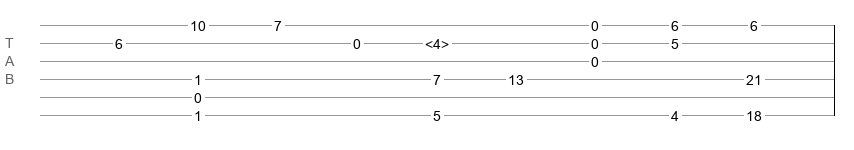0: (194, 90, 202, 100), (353, 36, 361, 46), (591, 18, 599, 28), (591, 54, 599, 64), (591, 36, 599, 46)
1: (194, 108, 202, 118), (194, 72, 202, 82)
10: (190, 18, 206, 28)
13: (508, 72, 524, 82)
18: (746, 108, 762, 118)
21: (746, 72, 762, 82)
4: (671, 108, 679, 118)
5: (433, 108, 441, 118), (671, 36, 679, 46)
6: (115, 36, 123, 46), (671, 18, 679, 28), (750, 18, 758, 28)
7: (274, 18, 282, 28), (433, 72, 441, 82)
harmonic: (425, 36, 449, 46)
